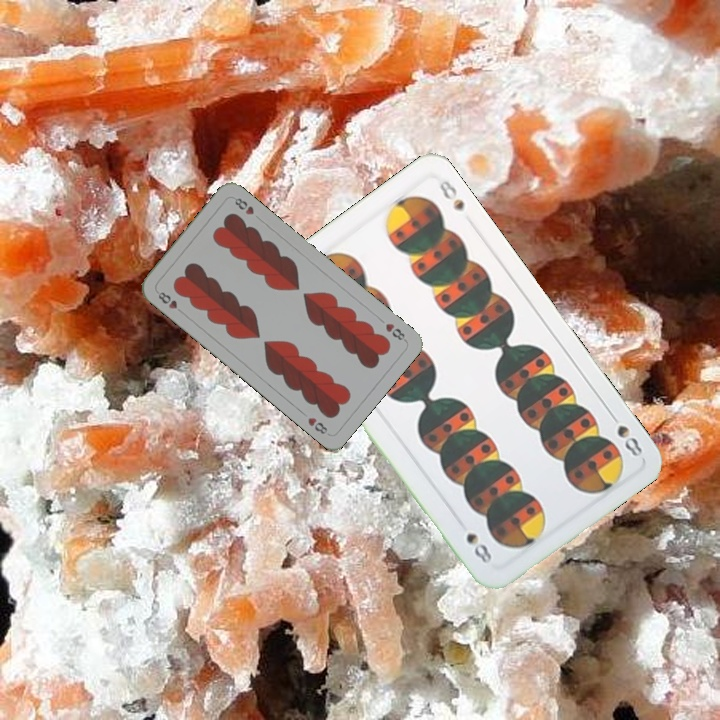H8: (381, 319, 409, 344), (154, 288, 180, 312)
S8: (604, 407, 645, 460)
